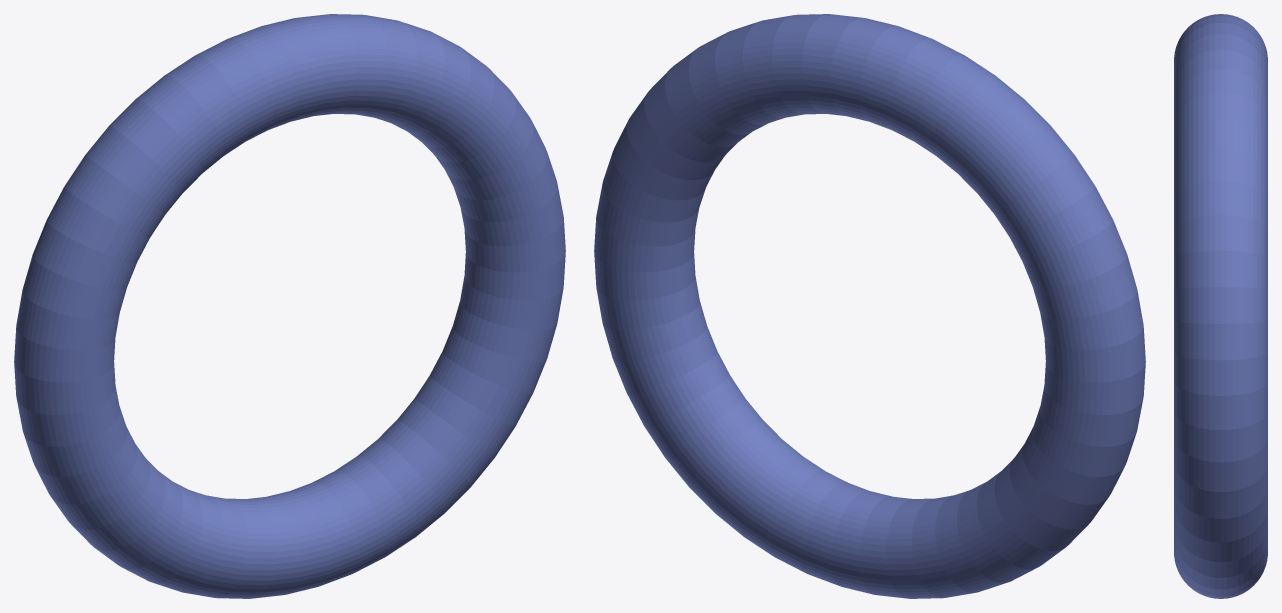
3 views of the same model, side by side, from view 1: azimuth 30°, elevation 25°; view 2: azimuth 150°, elevation 25°; view 3: azimuth 270°, elevation 25° (orthographic). The views are drawn at different scales.
Parts seen in each view (by area): view 1: world; view 2: world; view 3: world.
Part boxes in pixels (x1,y1,x2,y2): world: (14, 14, 565, 598); world: (594, 14, 1145, 598); world: (1174, 14, 1267, 598).
Size of the model in its own units: 19.07 by 19.03 by 3.06.
